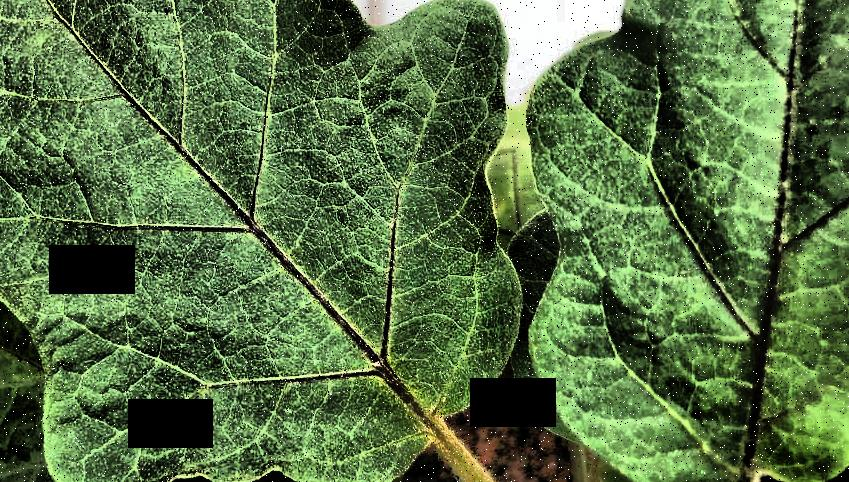HEALTHY: (0, 63, 544, 482)
